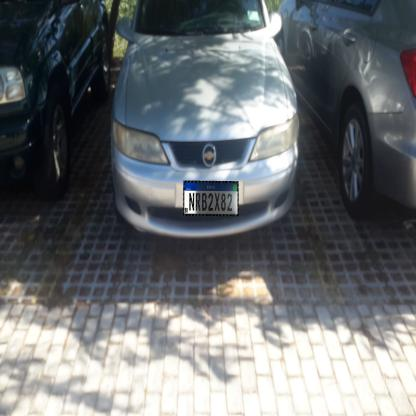PlacaM: (183, 181, 239, 216)
